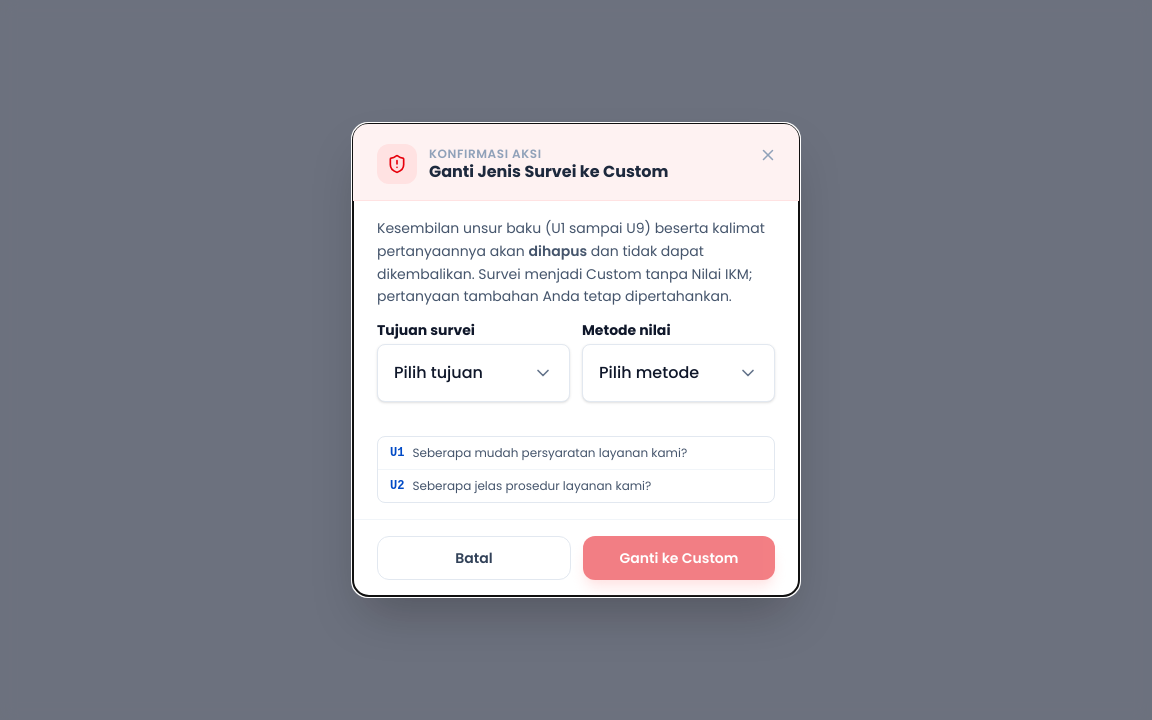
Test: GantiJenisModal › tombol konfirmasi nonaktif sampai tujuan DAN metode dipilih
The width and height of the screenshot is (1152, 720).
Expected: the button "Ganti ke Custom" is disabled, [583,536,775,580]
Click the button named "tujuan survei" at coordinates (474, 373), box [377,344,570,402]
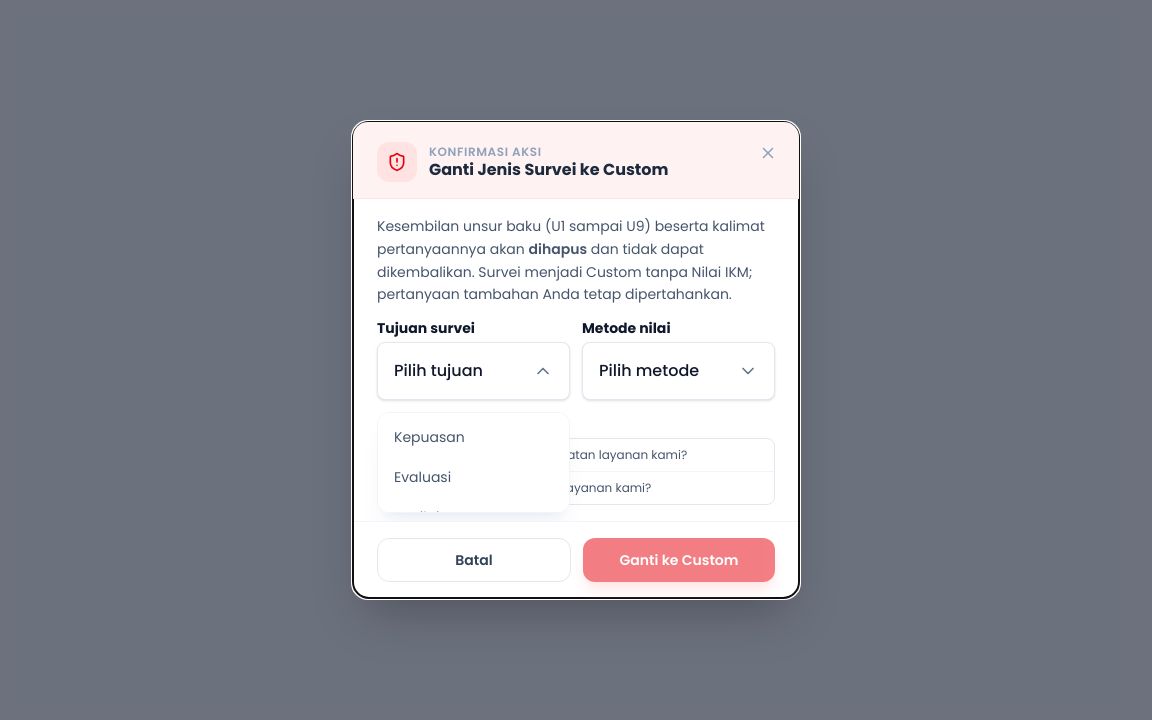
Click the button "Evaluasi" at coordinates (474, 477), box [378,457,569,497]
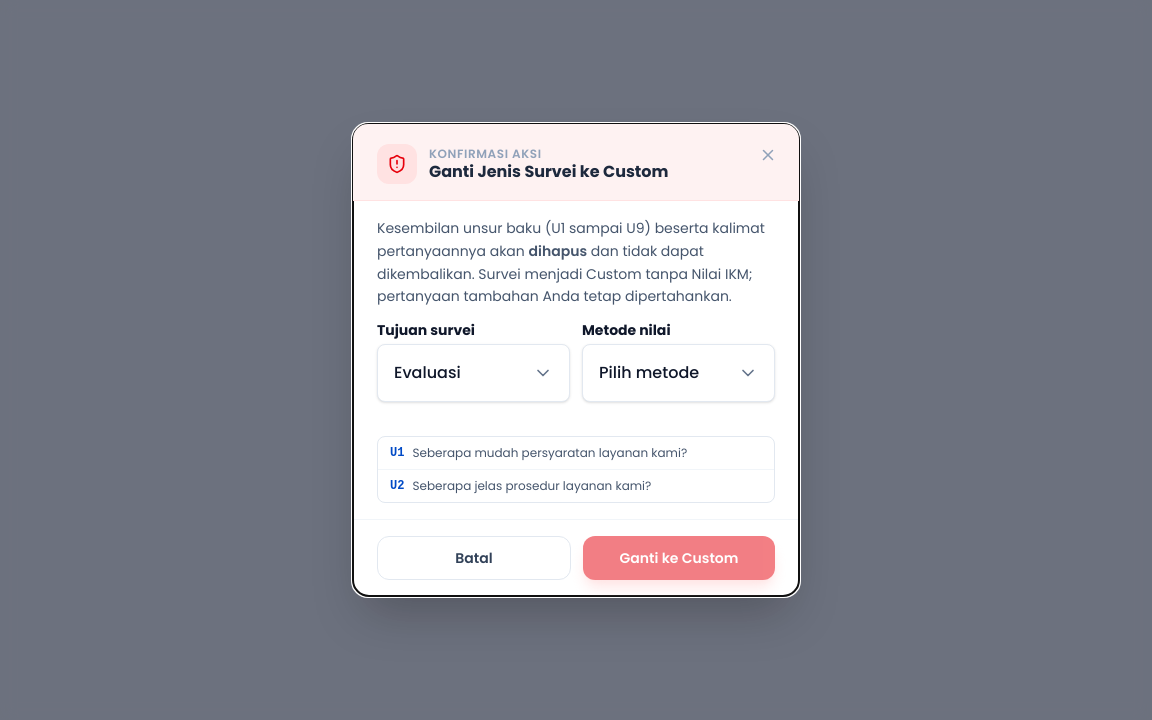
Expected: the button "Ganti ke Custom" is disabled, [583,536,775,580]
Click the button named "metode nilai" at coordinates (678, 373), box [582,344,775,402]
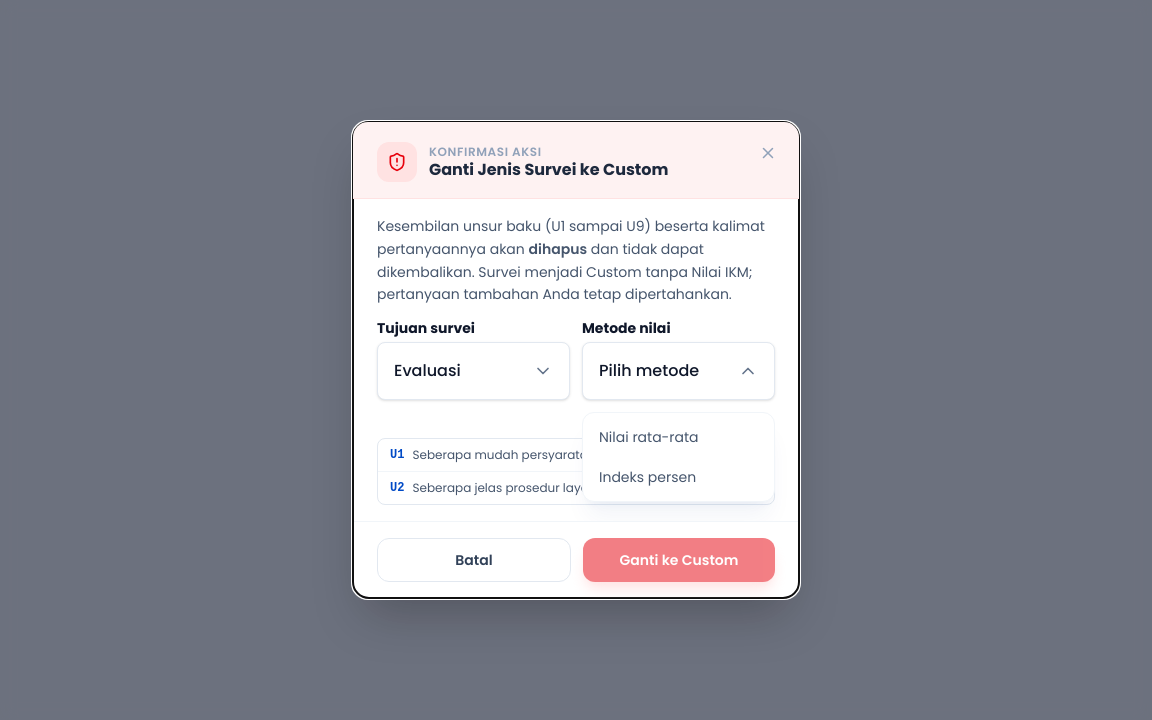
Click the button "Indeks persen" at coordinates (678, 477), box [583,457,774,497]
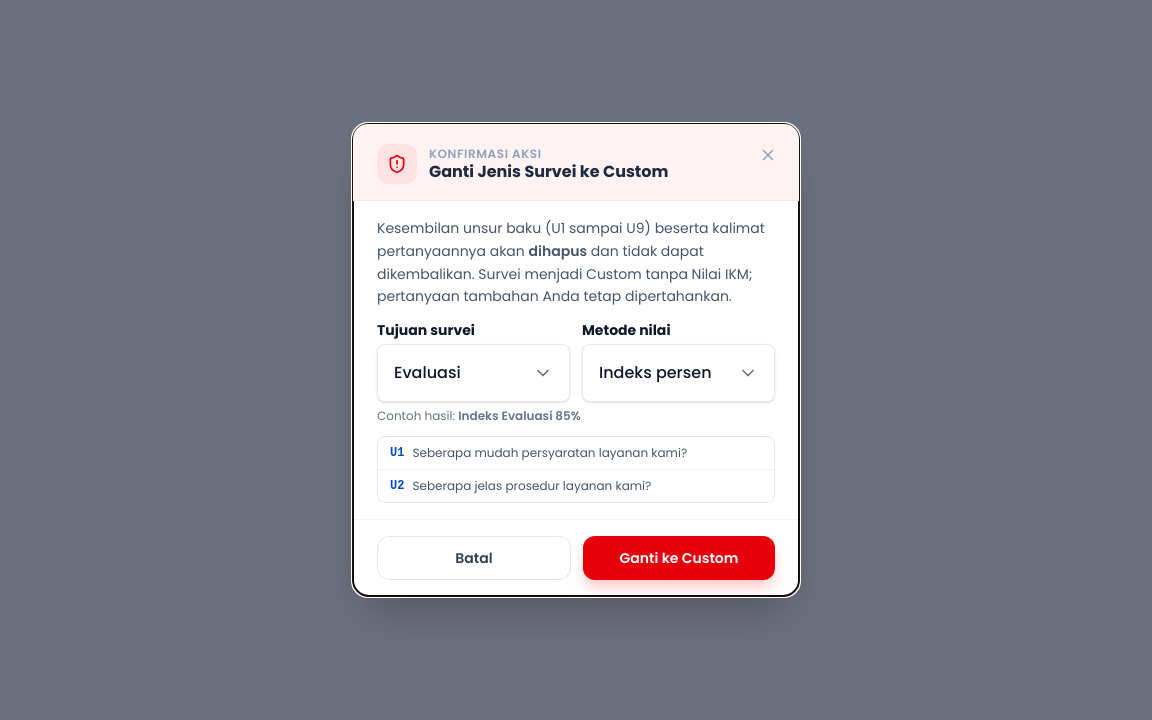
Now the button "Ganti ke Custom" is enabled, box [583,536,775,580]
